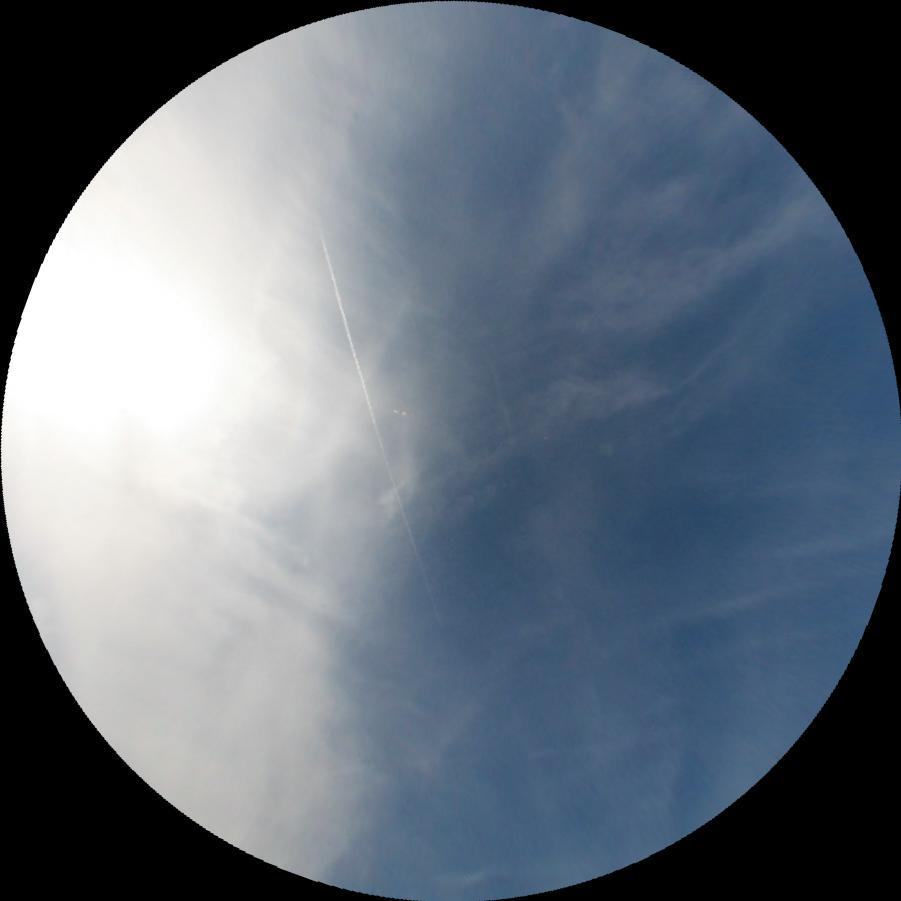contrail young: (311, 224, 443, 626)
sun: (0, 225, 244, 465)
